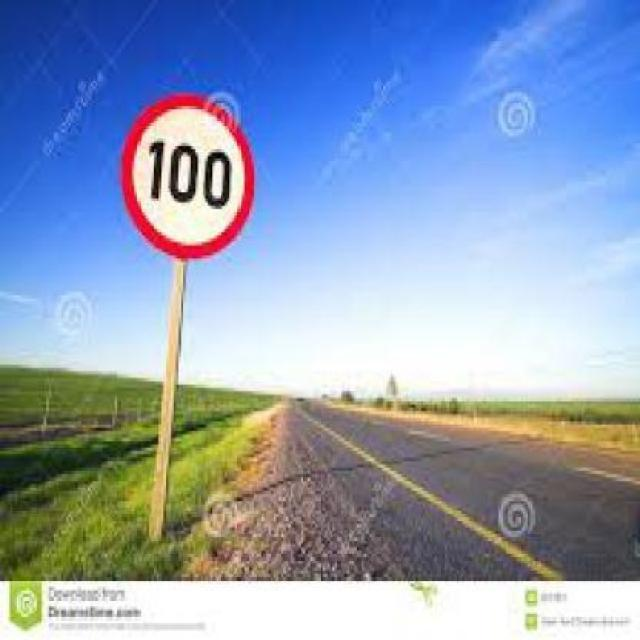forb_speed_over_100: (124, 95, 251, 258)
